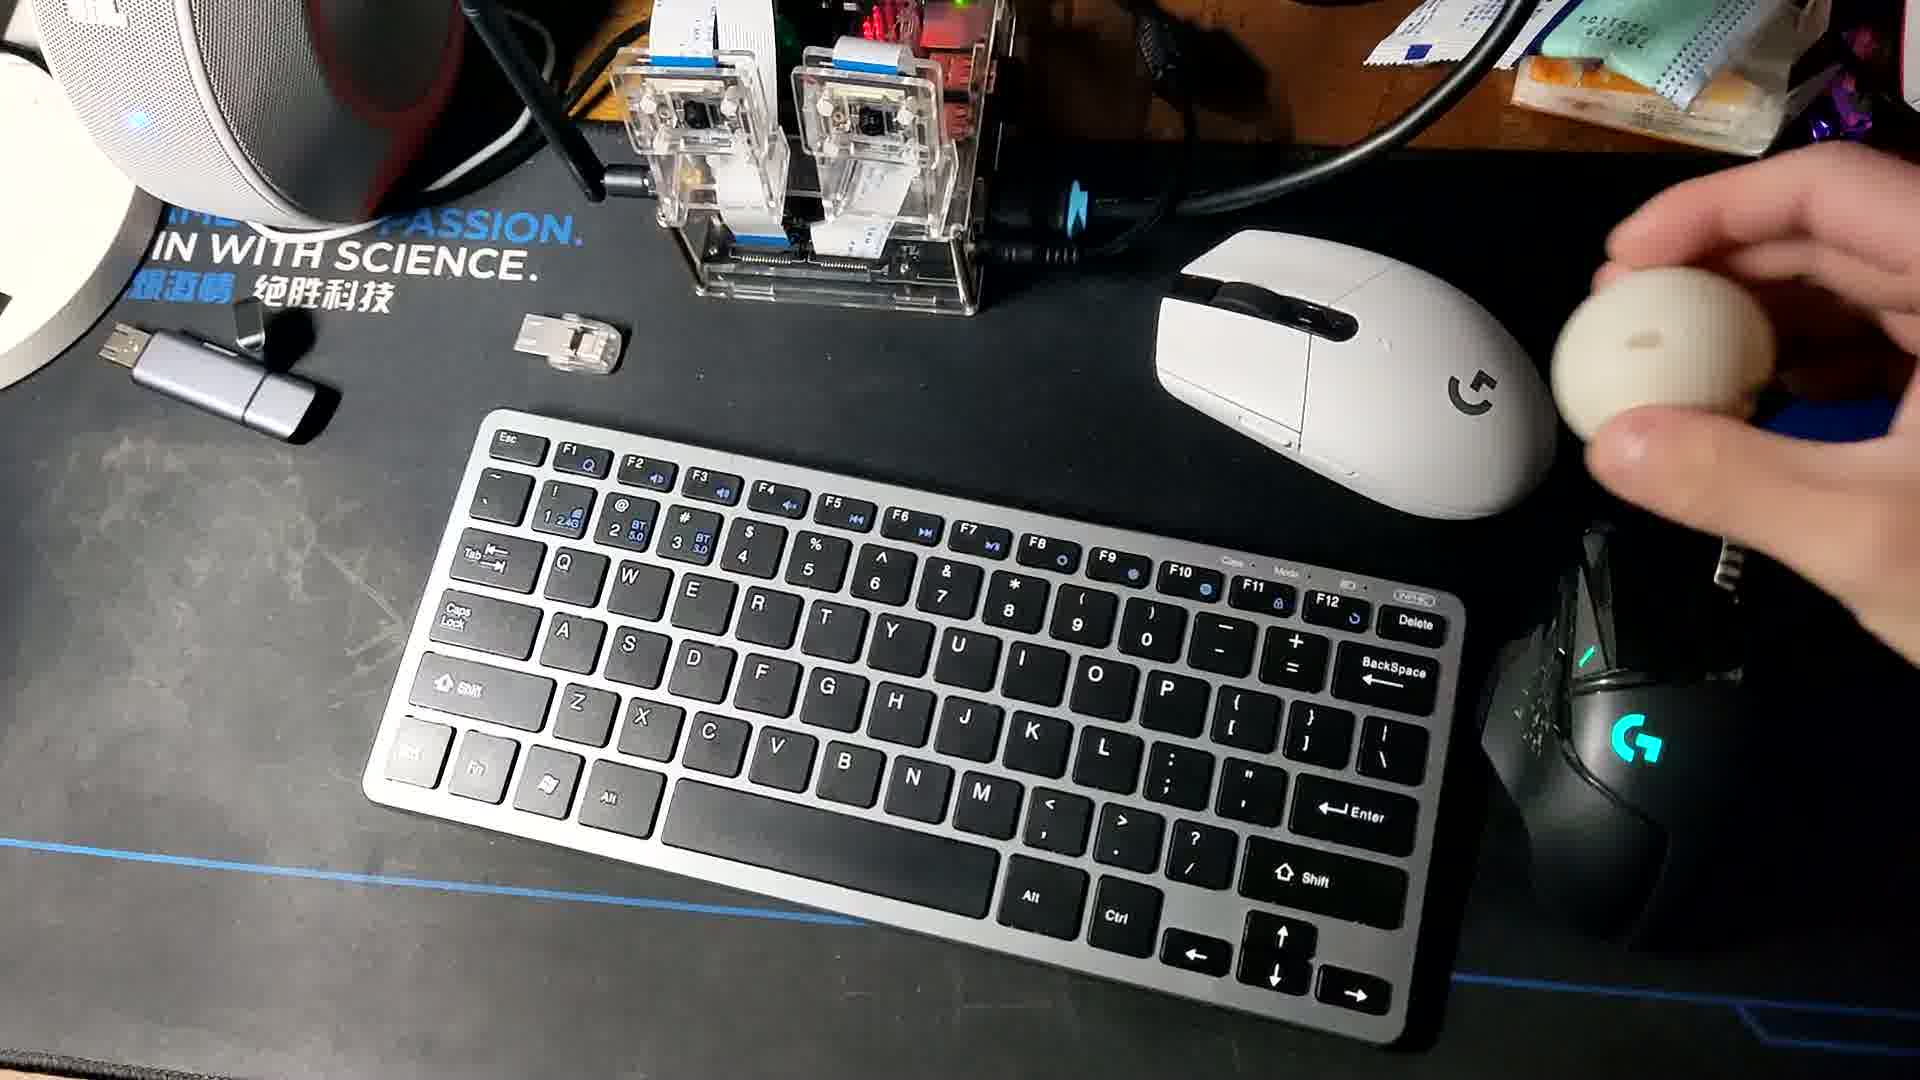Ball: (1557, 268, 1776, 477)
